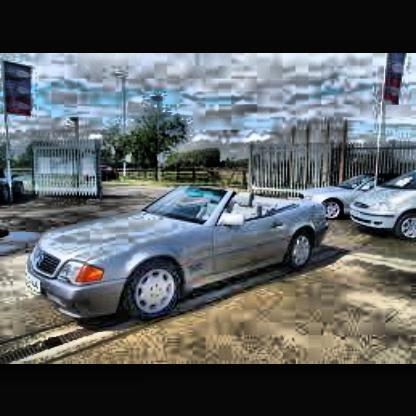Mercedes-Benz 300-Class Convertible 1993: (30, 188, 330, 321)
